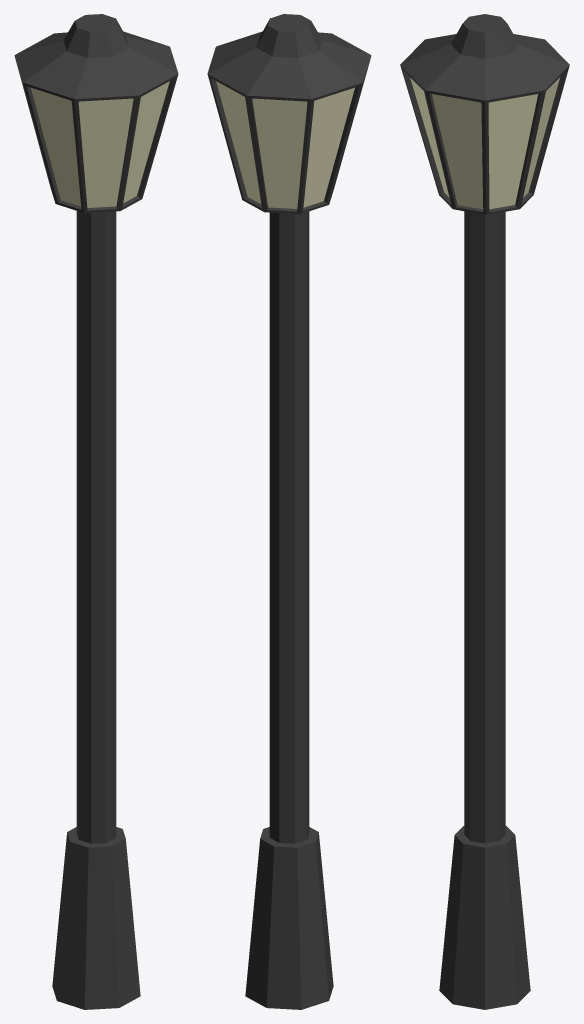
Rendered from Lampara.fbx.
The picture shows the model from 3 angles, left to right: view 1: azimuth 30°, elevation 25°; view 2: azimuth 150°, elevation 25°; view 3: azimuth 270°, elevation 25°; orthographic projection.
Parts seen in each view (by area): view 1: LAMPIONE; view 2: LAMPIONE; view 3: LAMPIONE.
Boxes of the visible parts, x1,y1,x2,y2 form: LAMPIONE: [14, 14, 178, 1009]; LAMPIONE: [207, 14, 371, 1009]; LAMPIONE: [400, 14, 569, 1009].
Bounding box in the file's own units: 81.22 × 511 × 81.22.
Materials: 1 (1 with a texture image).
